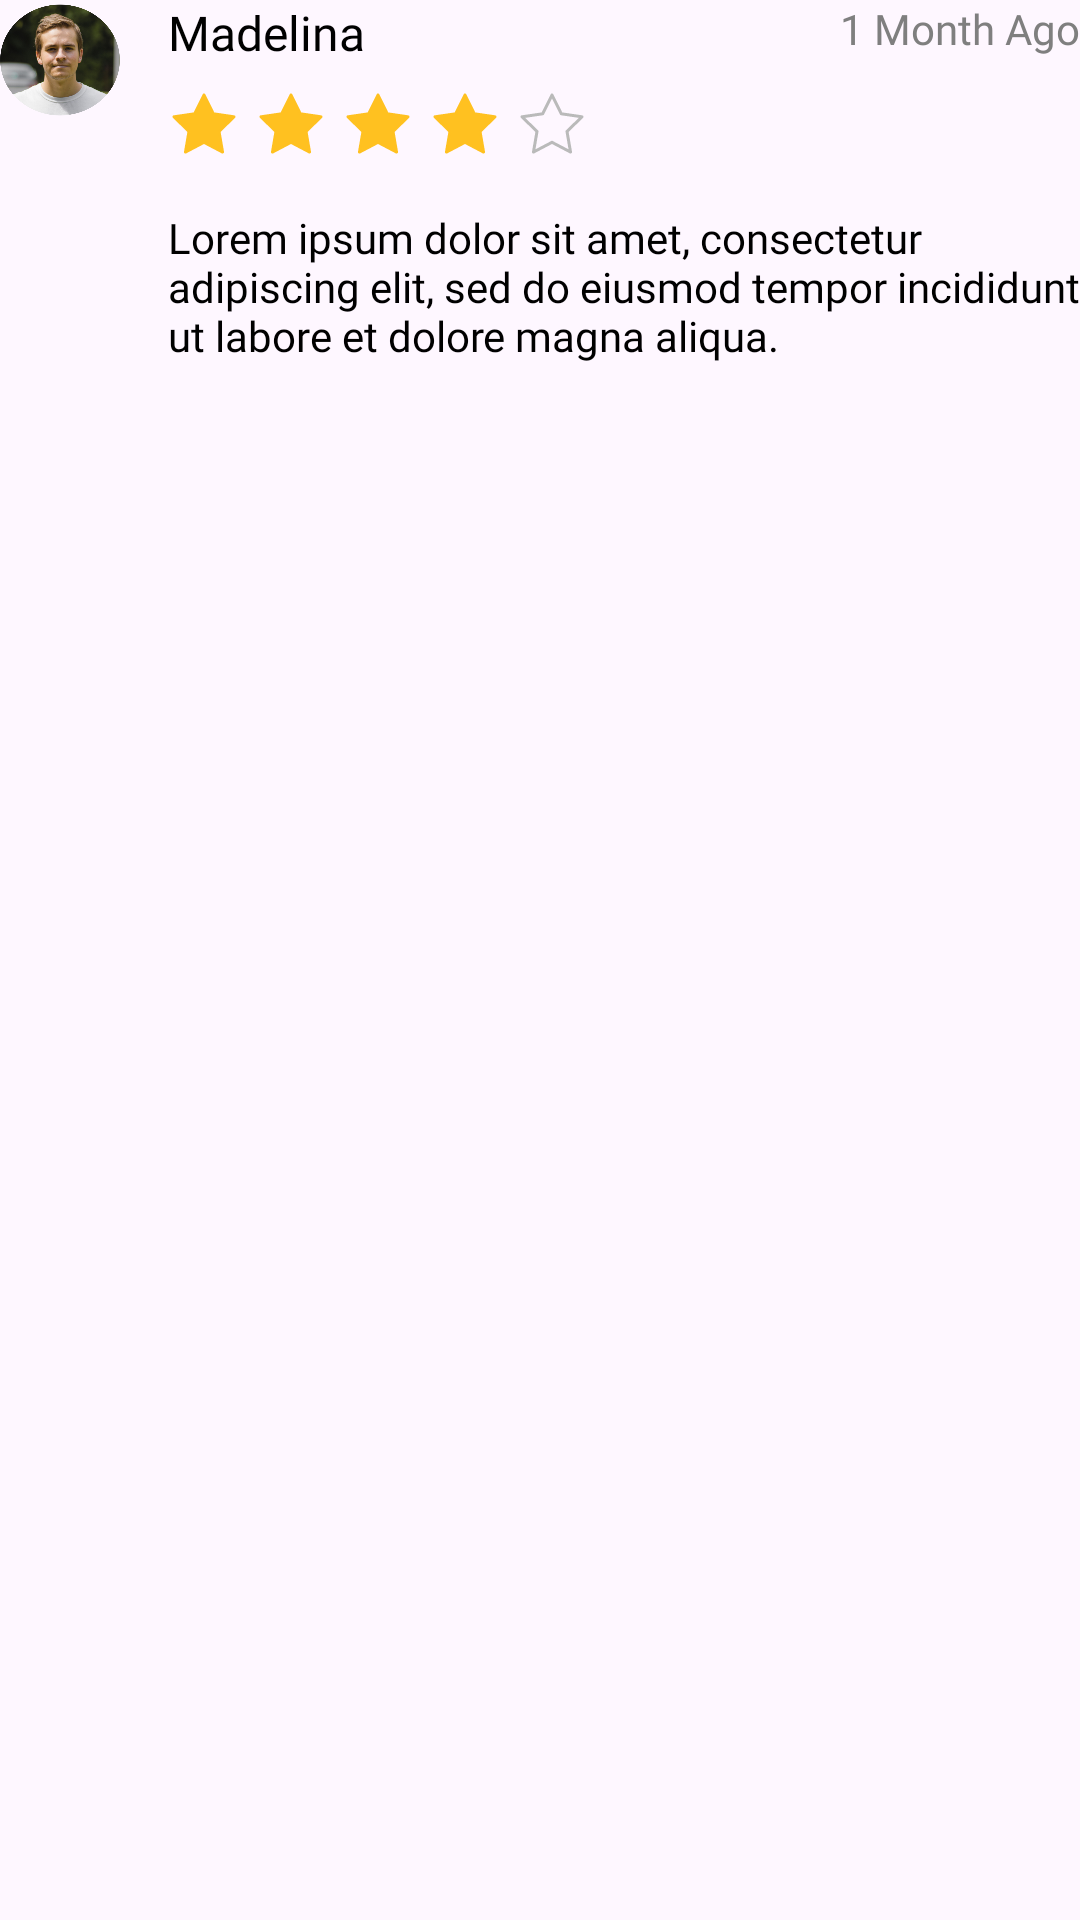

Icons on this 1080w x 1920h Android screen, each with the point to tap as (x,y):
star: (204,123), (291,123), (378,123), (465,123)
star empty: (552,123)
user pic: (60,59)
